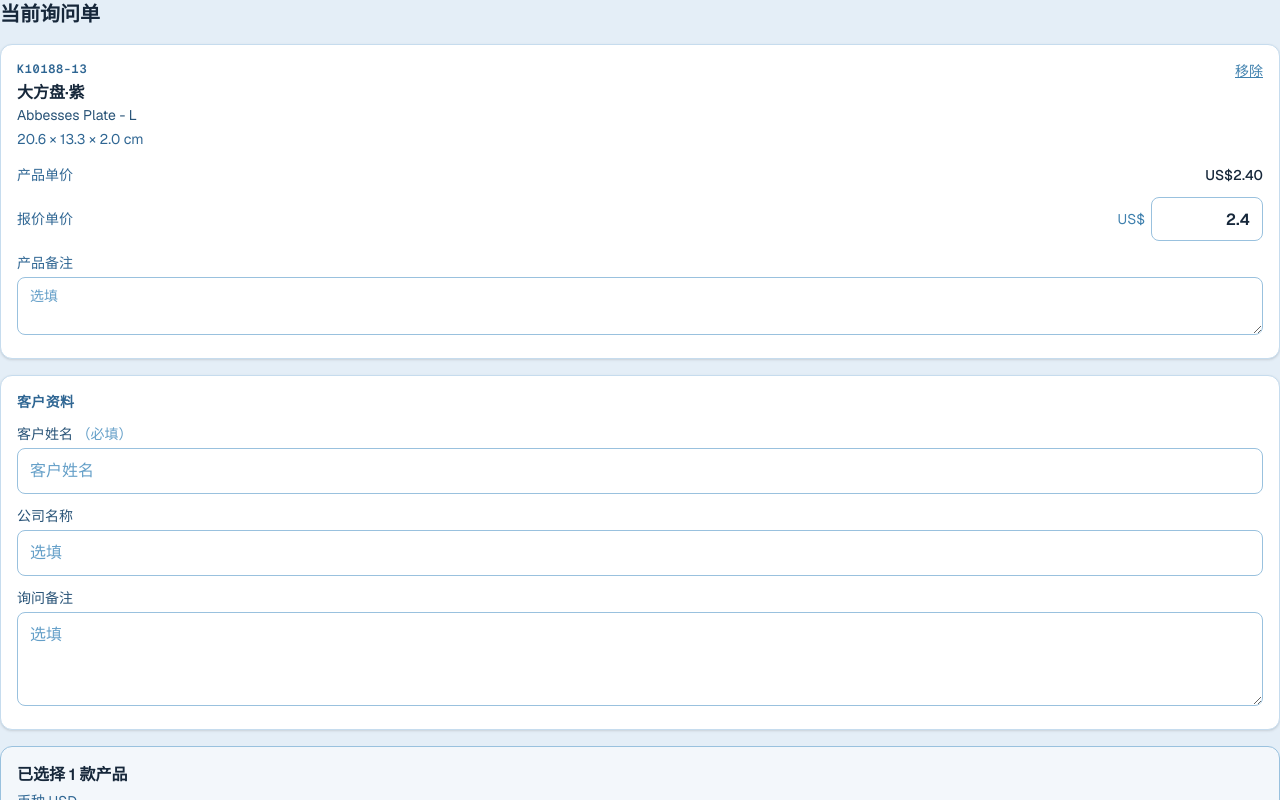
it: submission › queues locally when synchronization fails and does not discard the inquiry
In the field labelled "客户姓名 （必填）": (640, 471) top-left (17, 448), bottom-right (1263, 494), type "Ada"
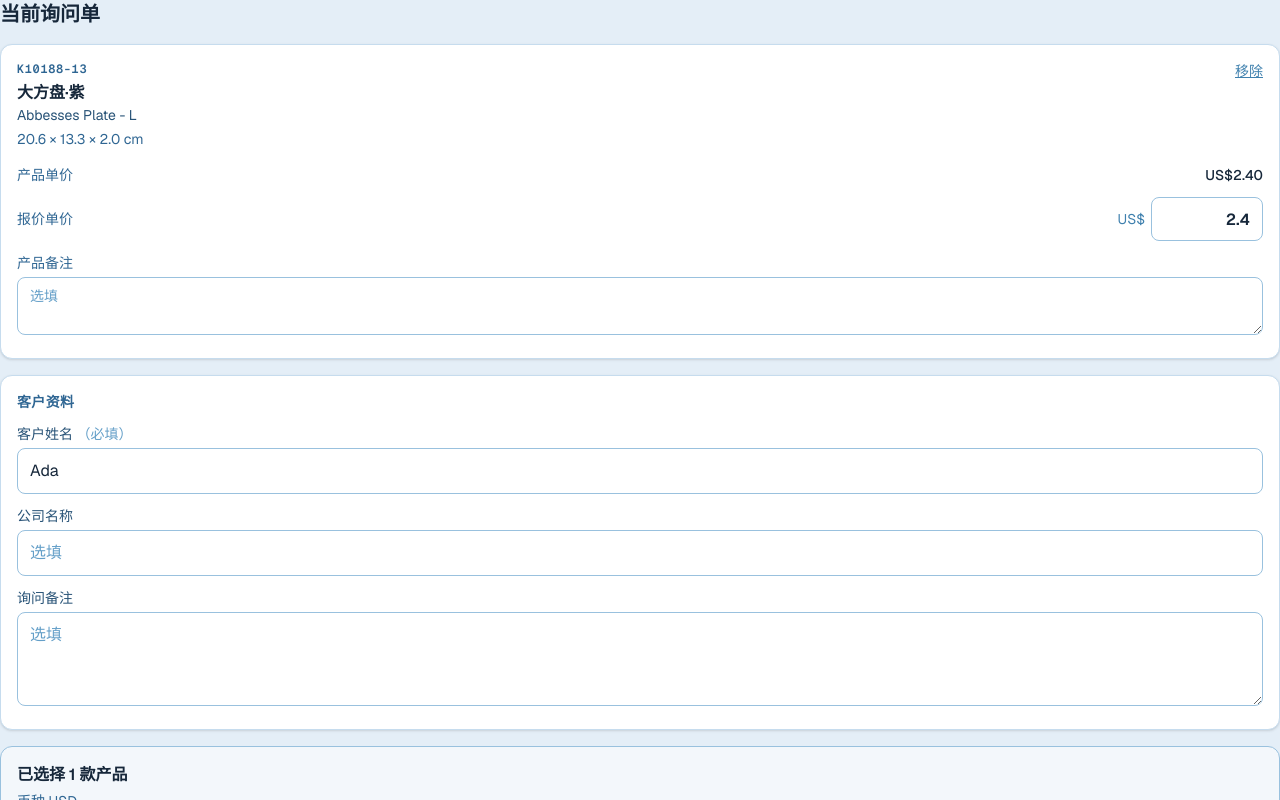
In the text box labelled "询问备注": (640, 659) top-left (17, 612), bottom-right (1263, 706), type "Booth A"
(page scrolled)
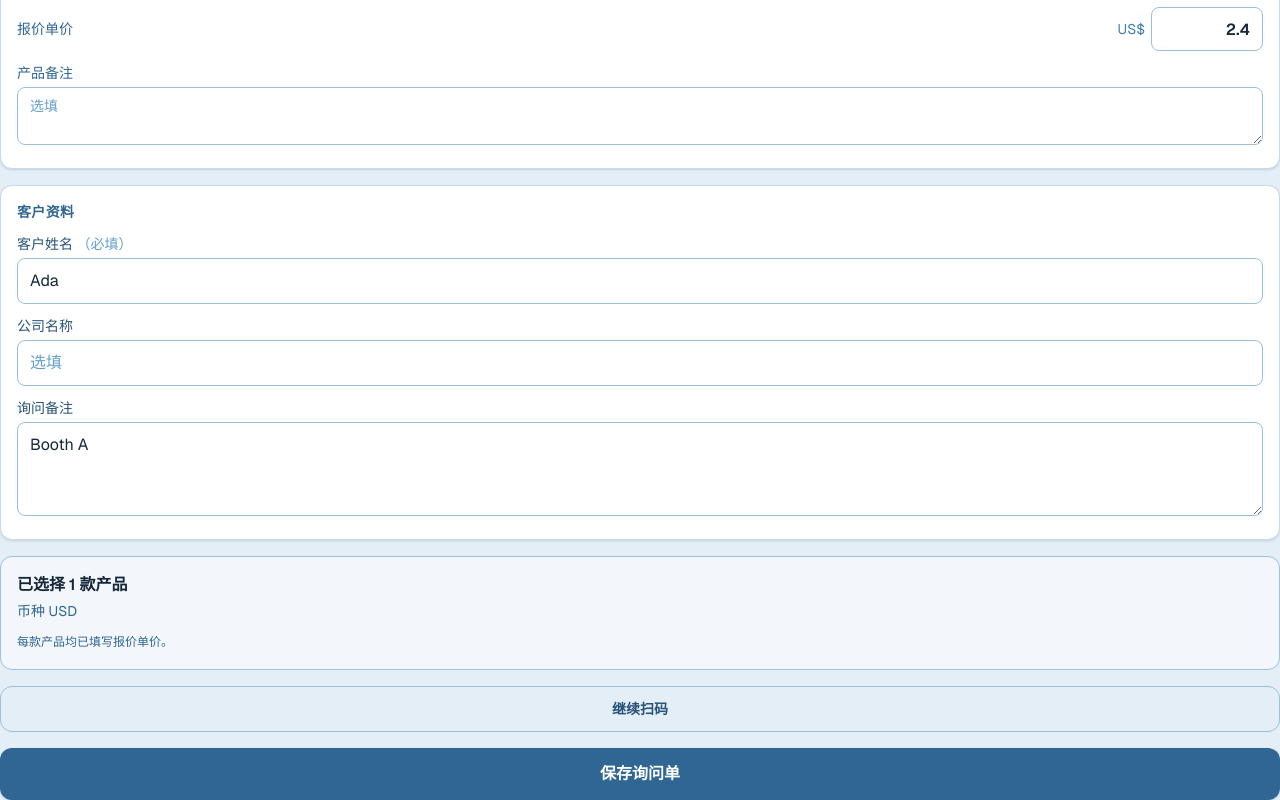
Click the button "保存询问单": (640, 774) top-left (0, 748), bottom-right (1279, 799)
(page scrolled)
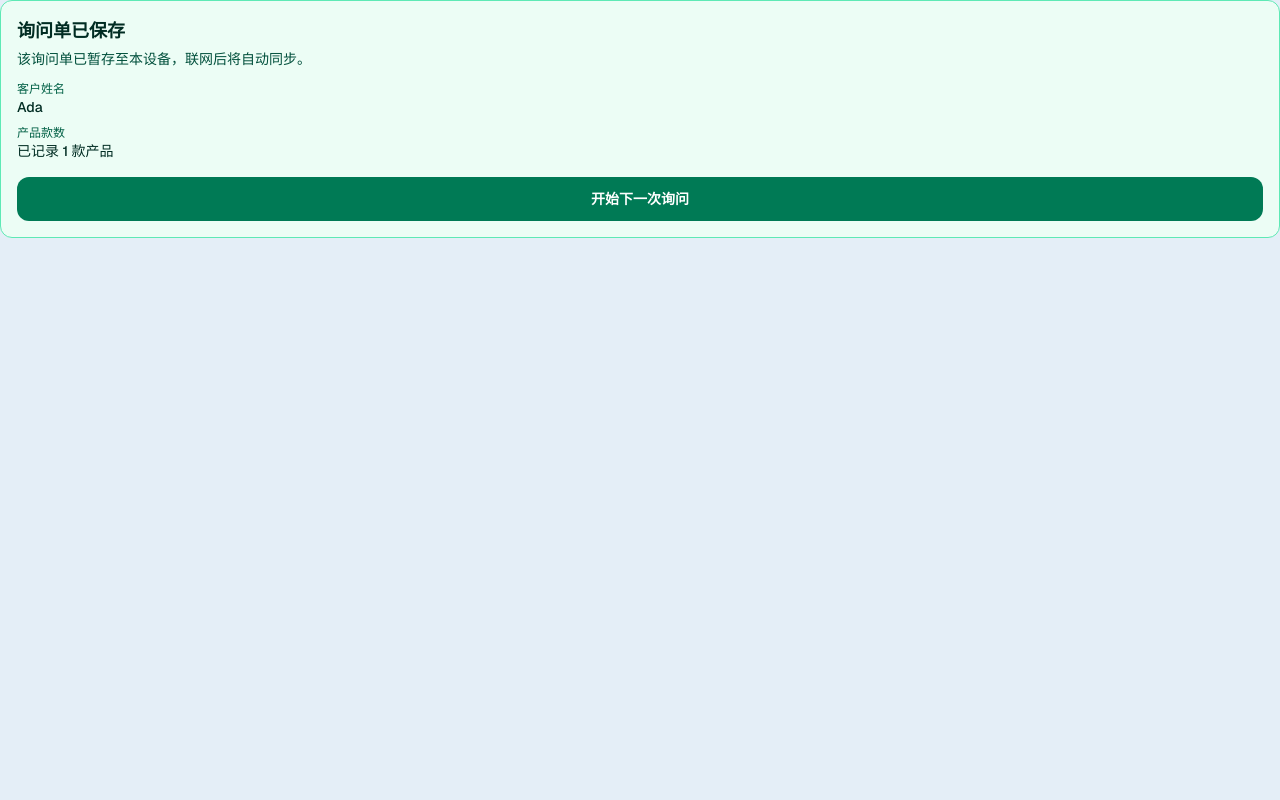
Check: the text "该询问单已暂存至本设备，联网后将自动同步。" is shown, box top-left (17, 50), bottom-right (311, 68)
Check: the button "开始下一次询问" is shown, box top-left (17, 177), bottom-right (1263, 221)
Check: the text "Ada" is shown, box top-left (17, 98), bottom-right (43, 116)
